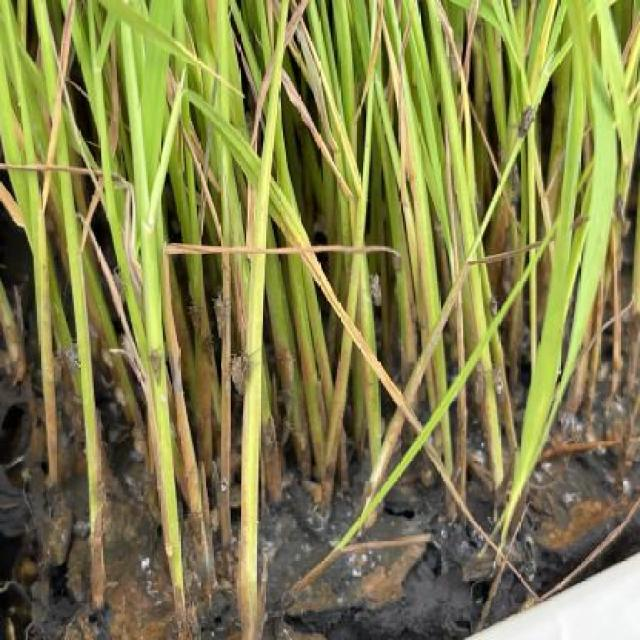wereng pada daun padi: (462, 354, 492, 418), (362, 263, 399, 312), (608, 193, 638, 251), (207, 290, 238, 346), (510, 99, 542, 146), (224, 347, 255, 395), (489, 343, 511, 408), (150, 344, 173, 394)
